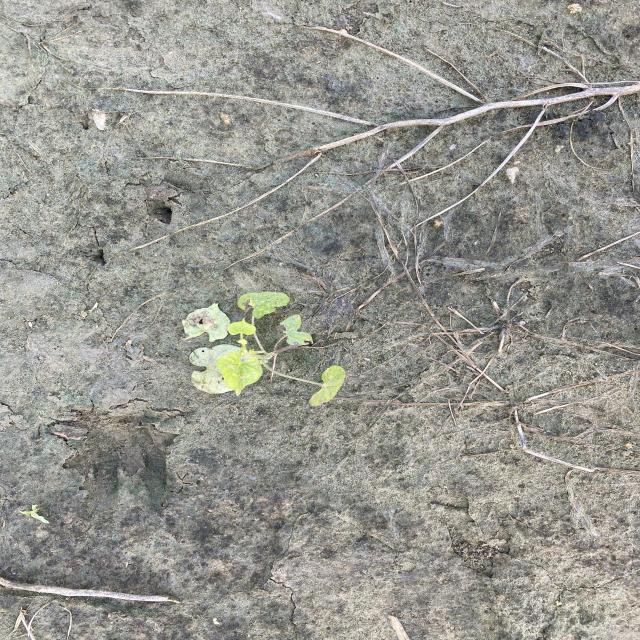MorningGlory: (180, 291, 348, 408)
